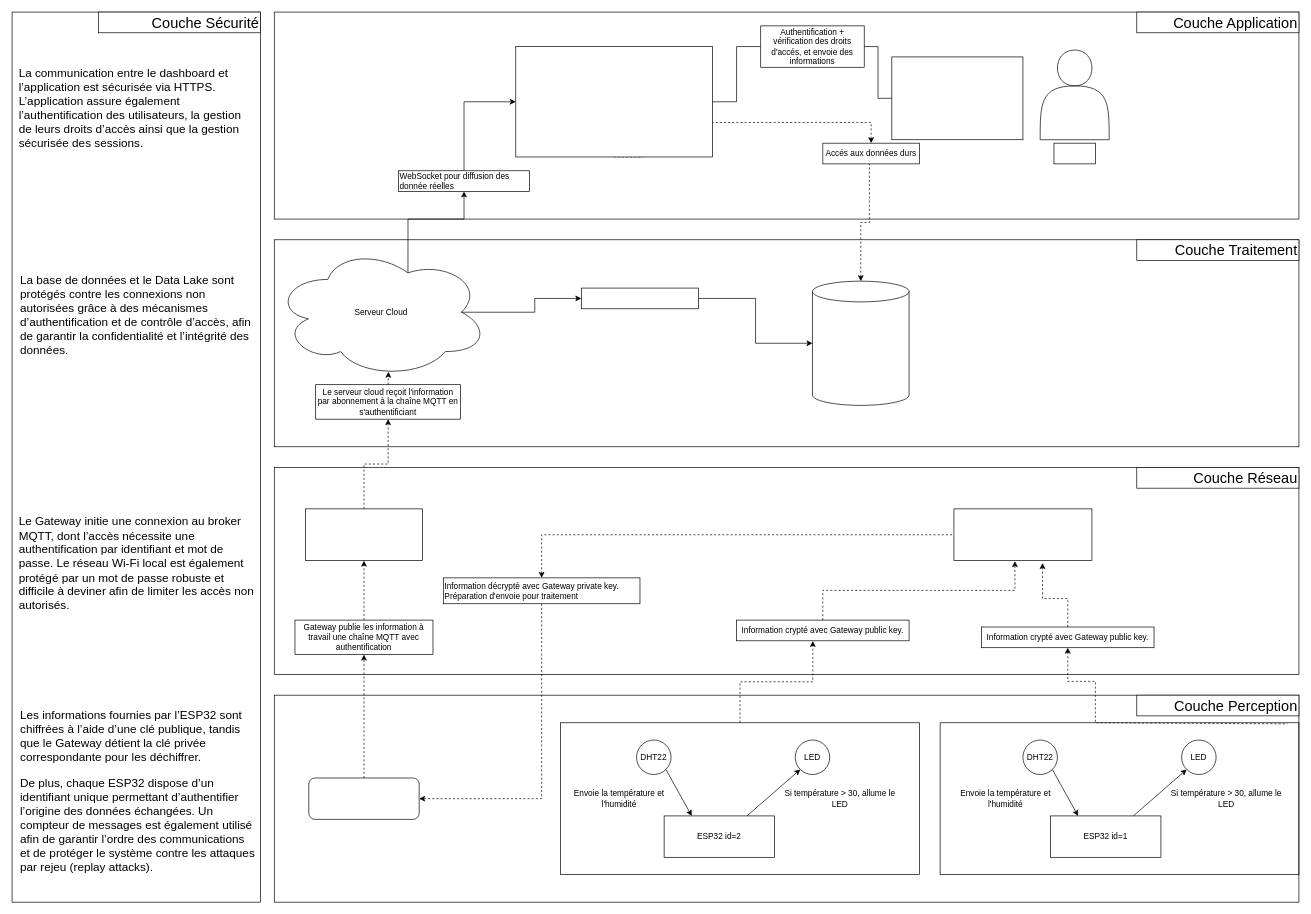
This 1311x914 diagram has some shape labels left out. The centre of each missing label's shape, as x and y in pixels:
"Application" belongs at (x=613, y=101).
"Base de donnée/data lake" belongs at (x=860, y=342).
"Dashboard" belongs at (x=957, y=98).
"Envoie de l'information via WIFI vers 192.168.1.100:8080/data" belongs at (x=1022, y=534).
"Gateway 192.168.1.100" belongs at (x=363, y=798).
"Stockage des données réelles avec authentification" belongs at (x=640, y=298).
"Transfert par MQTT" belongs at (x=364, y=534).
"Utilisateur" belongs at (x=1074, y=153).
